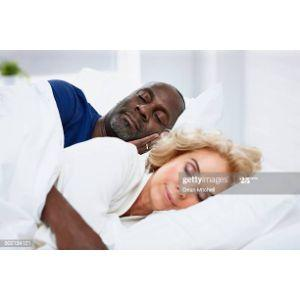sleep: (0, 129, 262, 250), (0, 74, 185, 147), (111, 82, 184, 138), (155, 156, 213, 209)
